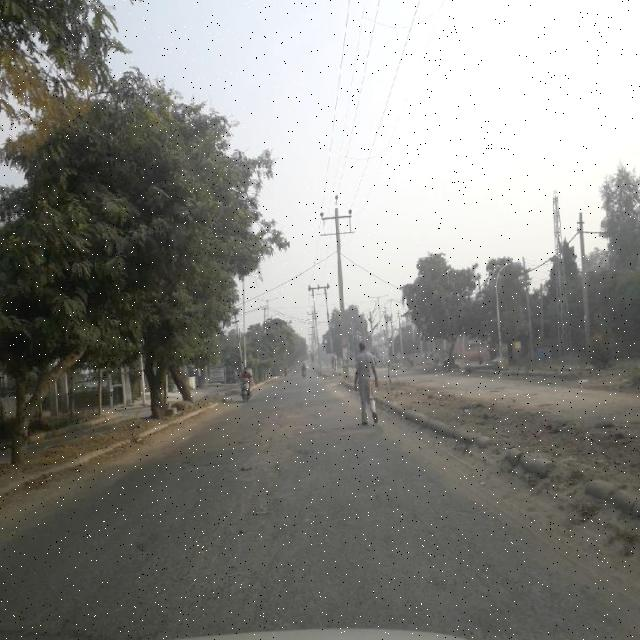D40: (242, 398, 308, 530)
